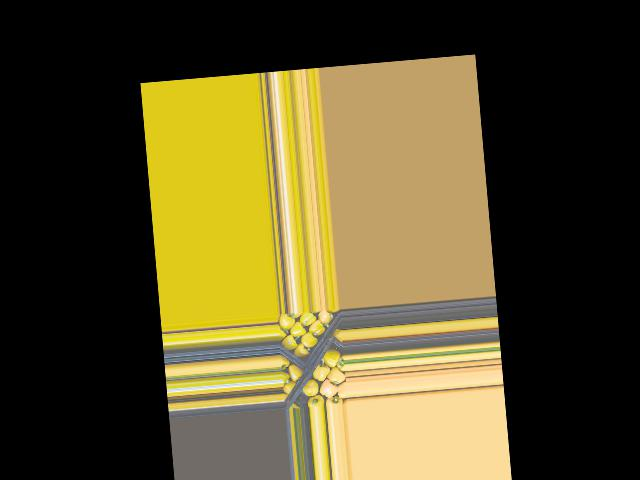bell_pepper: (276, 313, 294, 333)
